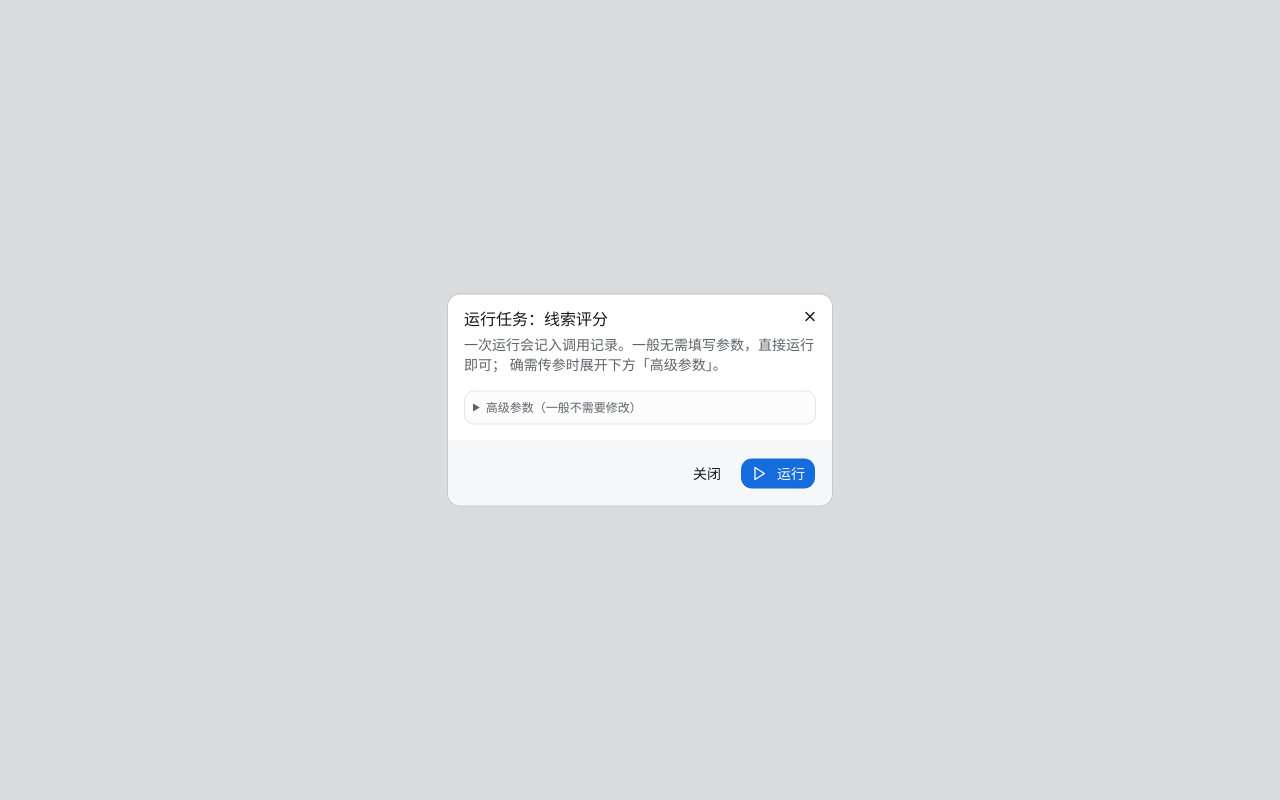
Test case: RunTaskDialog · 参数表单与结果展示（C36 #13） › 403 ⇒ 如实显示「无权限」+ 后端错误码/文案，且不出现「运行成功」
The width and height of the screenshot is (1280, 800).
Click the button "运行": coordinates (778, 474) [740,458,816,490]
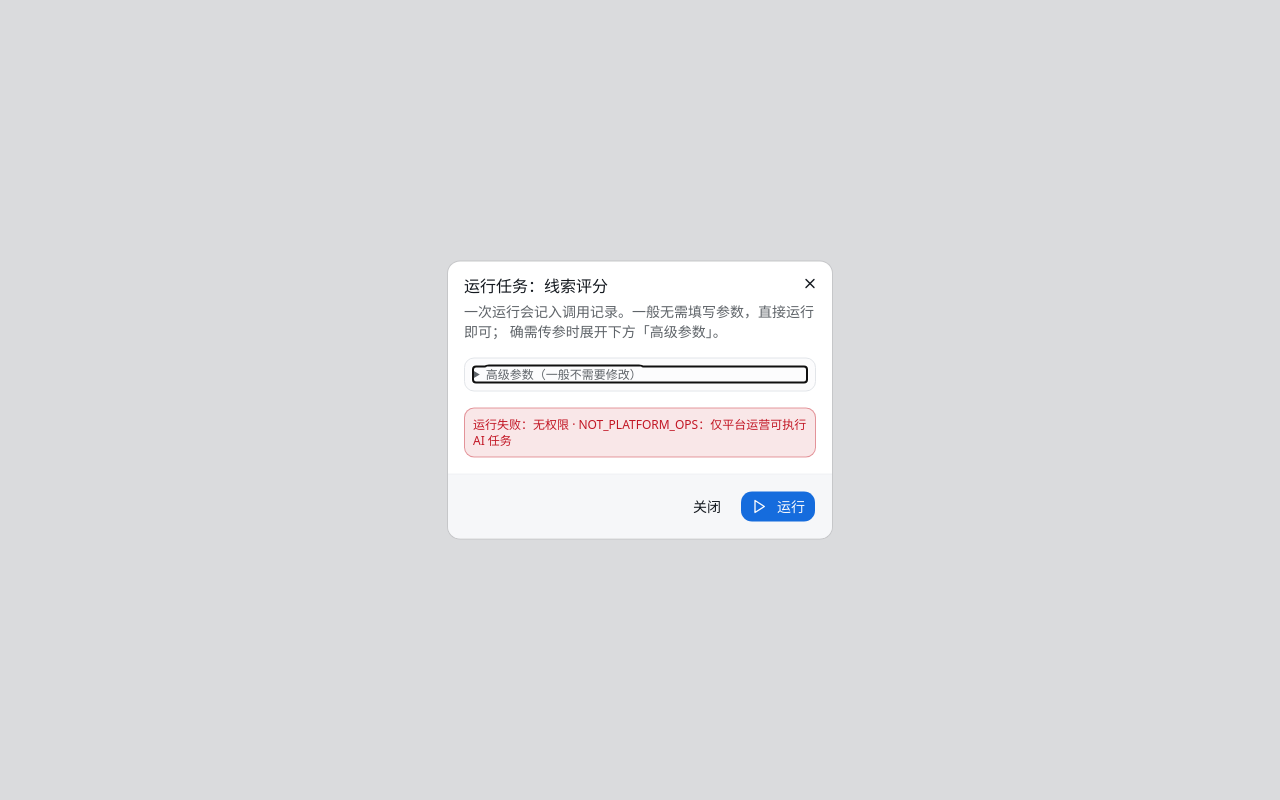
Result: the text "运行失败" is shown at [473,416,533,432]
Result: the text "无权限" is shown at [473,416,806,448]
Result: the text "NOT_PLATFORM_OPS" is shown at [473,416,806,448]
